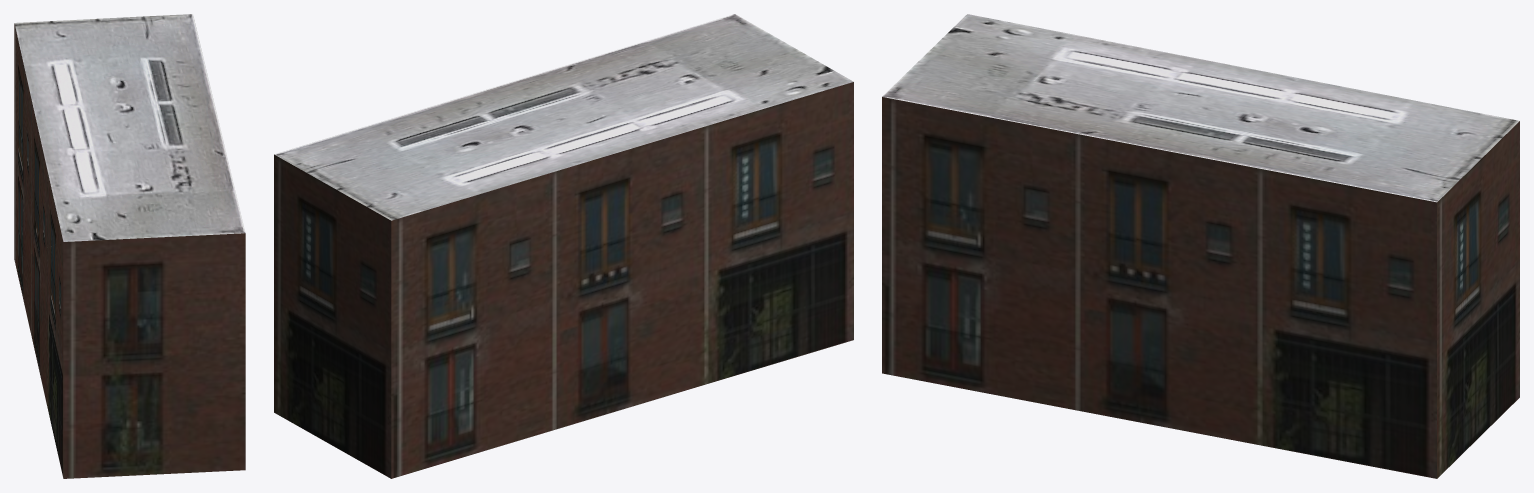
The model's file is EduTex__13.fbx.
3 renders of one model, left to right at view 1: azimuth 30°, elevation 25°; view 2: azimuth 150°, elevation 25°; view 3: azimuth 270°, elevation 25°, orthographic. The views are drawn at different scales.
Visible parts, largest first — view 1: CityEngineMaterial_16_m, CityEngineMaterial_m; view 2: CityEngineMaterial_16_m, CityEngineMaterial_m; view 3: CityEngineMaterial_16_m, CityEngineMaterial_m.
Part boxes in pixels (x1,y1,x2,y2): CityEngineMaterial_16_m: (14, 23, 245, 478); CityEngineMaterial_m: (14, 14, 245, 241); CityEngineMaterial_16_m: (274, 82, 853, 478); CityEngineMaterial_m: (274, 14, 853, 220); CityEngineMaterial_16_m: (882, 97, 1519, 478); CityEngineMaterial_m: (882, 14, 1519, 202).
Size of the model in its own units: 8.77 by 6 by 12.54.
Materials: 2 (2 with a texture image).
